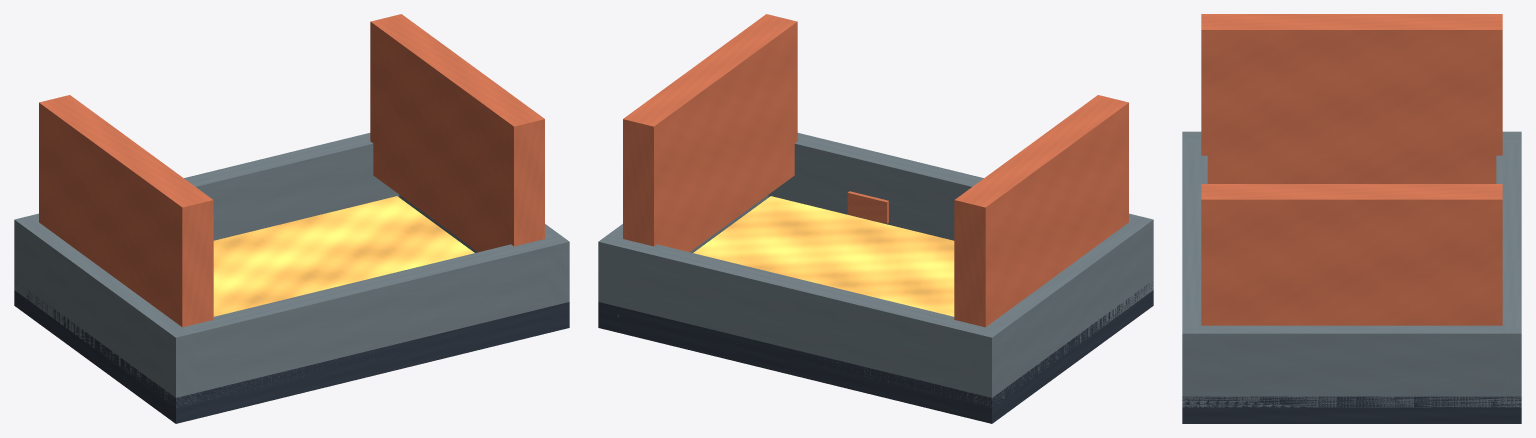
The model's file is atlas100-s027-a01.lod2.glb.
The picture shows the model from 3 angles, left to right: view 1: azimuth 30°, elevation 25°; view 2: azimuth 150°, elevation 25°; view 3: azimuth 270°, elevation 25°; orthographic projection. The views are drawn at different scales.
Visible parts, largest first — view 1: atlas100-s027-a01:part-007, atlas100-s027-a01:part-005, atlas100-s027-a01:part-006, atlas100-s027-a01:part-001, atlas100-s027-a01:part-002, atlas100-s027-a01:part-000, atlas100-s027-a01:part-004, atlas100-s027-a01:part-003; view 2: atlas100-s027-a01:part-007, atlas100-s027-a01:part-004, atlas100-s027-a01:part-006, atlas100-s027-a01:part-001, atlas100-s027-a01:part-000, atlas100-s027-a01:part-002, atlas100-s027-a01:part-005, atlas100-s027-a01:part-003, atlas100-s027-a01:part-008; view 3: atlas100-s027-a01:part-006, atlas100-s027-a01:part-007, atlas100-s027-a01:part-003, atlas100-s027-a01:part-000, atlas100-s027-a01:part-004, atlas100-s027-a01:part-005, atlas100-s027-a01:part-002.
Boxes of the visible parts, x1=… form: atlas100-s027-a01:part-007: x1=370, y1=14, x2=544, y2=252; atlas100-s027-a01:part-005: x1=164, y1=233, x2=569, y2=407; atlas100-s027-a01:part-006: x1=39, y1=95, x2=213, y2=327; atlas100-s027-a01:part-001: x1=213, y1=196, x2=474, y2=316; atlas100-s027-a01:part-002: x1=14, y1=214, x2=196, y2=406; atlas100-s027-a01:part-000: x1=14, y1=202, x2=569, y2=423; atlas100-s027-a01:part-004: x1=14, y1=133, x2=399, y2=298; atlas100-s027-a01:part-003: x1=399, y1=195, x2=569, y2=306; atlas100-s027-a01:part-007: x1=623, y1=14, x2=797, y2=252; atlas100-s027-a01:part-004: x1=598, y1=233, x2=1003, y2=407; atlas100-s027-a01:part-006: x1=954, y1=95, x2=1128, y2=327; atlas100-s027-a01:part-001: x1=693, y1=196, x2=954, y2=316; atlas100-s027-a01:part-000: x1=598, y1=202, x2=1153, y2=423; atlas100-s027-a01:part-002: x1=971, y1=214, x2=1153, y2=404; atlas100-s027-a01:part-005: x1=768, y1=133, x2=1153, y2=264; atlas100-s027-a01:part-003: x1=598, y1=195, x2=768, y2=316; atlas100-s027-a01:part-008: x1=847, y1=191, x2=888, y2=223; atlas100-s027-a01:part-006: x1=1201, y1=14, x2=1502, y2=183; atlas100-s027-a01:part-007: x1=1201, y1=184, x2=1502, y2=325; atlas100-s027-a01:part-003: x1=1182, y1=323, x2=1521, y2=407; atlas100-s027-a01:part-000: x1=1182, y1=396, x2=1521, y2=423; atlas100-s027-a01:part-004: x1=1496, y1=132, x2=1521, y2=407; atlas100-s027-a01:part-005: x1=1182, y1=132, x2=1207, y2=407; atlas100-s027-a01:part-002: x1=1182, y1=131, x2=1521, y2=142.
Bounding box in the file's own units: 3.8 × 1.9 × 2.7.
Materials: 4 (4 with a texture image).
